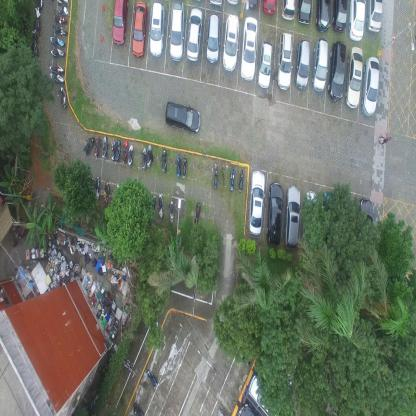car: (344, 44, 364, 111), (164, 100, 201, 135), (360, 54, 380, 118), (247, 170, 266, 236), (327, 39, 346, 103), (240, 15, 258, 82), (266, 180, 284, 247), (283, 183, 301, 249), (321, 191, 339, 257), (356, 198, 374, 263), (275, 31, 294, 91), (222, 13, 240, 73), (169, 0, 185, 62), (311, 36, 328, 94), (149, 1, 166, 58), (302, 190, 318, 250), (186, 6, 203, 62), (131, 0, 147, 59), (205, 10, 221, 65), (294, 38, 310, 91), (256, 39, 272, 90), (112, 0, 129, 47), (347, 0, 365, 41), (365, 0, 384, 33), (330, 0, 348, 33), (314, 0, 330, 33), (296, 0, 312, 25), (280, 0, 297, 22), (261, 0, 277, 15)
